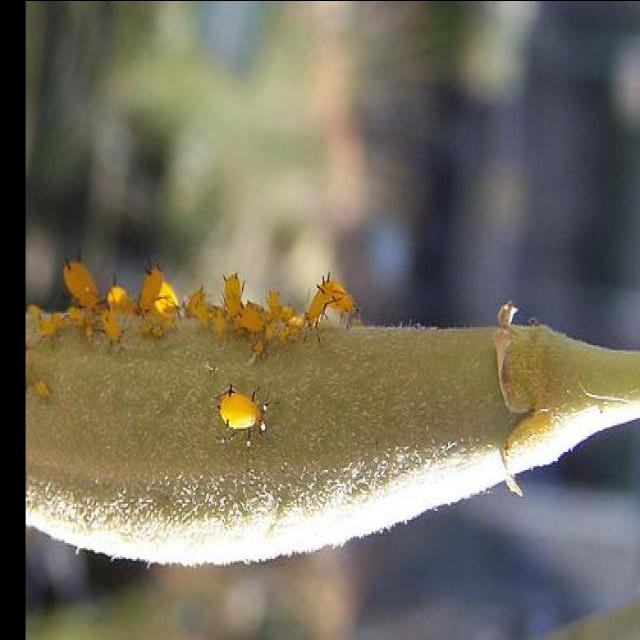aphid: (48, 238, 368, 342), (200, 360, 274, 439)
